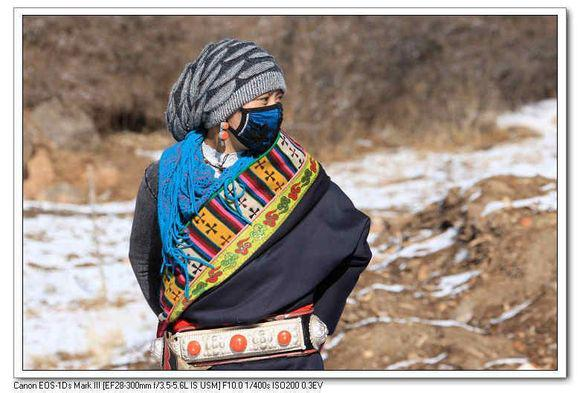OK: (221, 86, 284, 153)
